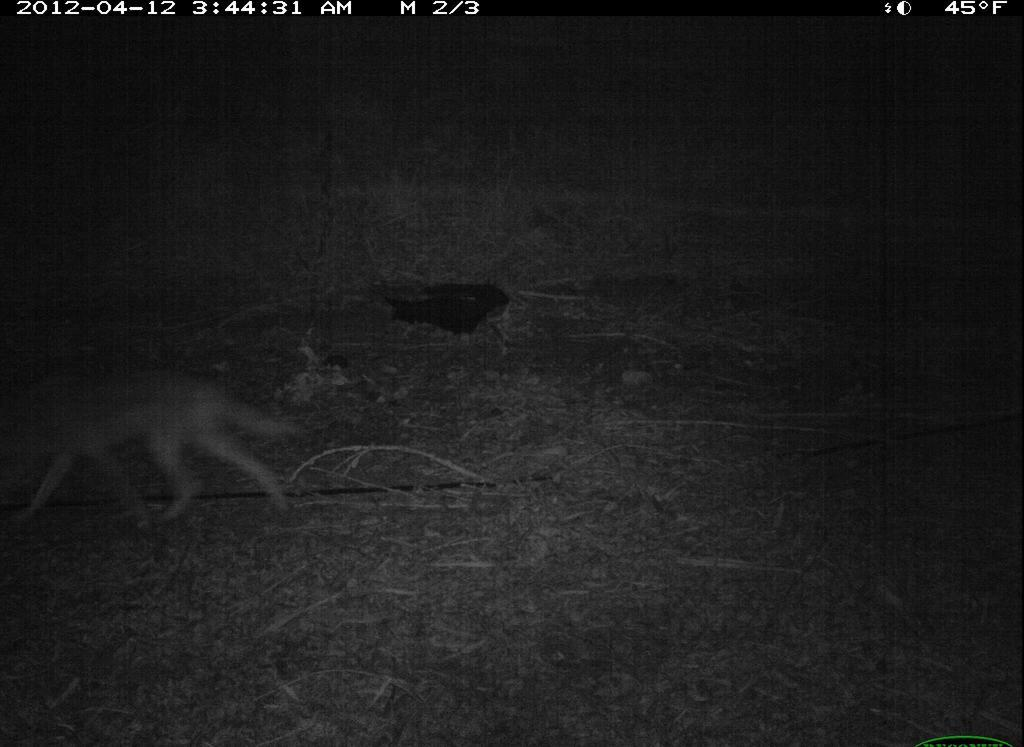coyote: (9, 332, 349, 552)
